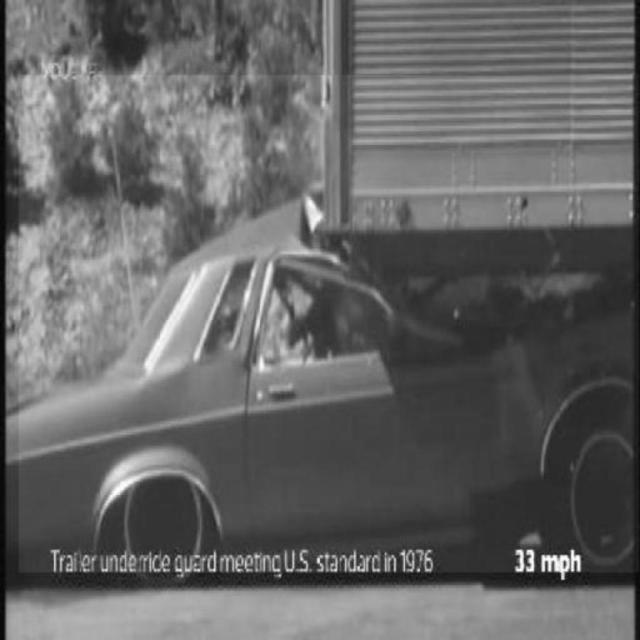accident: (19, 75, 639, 572)
